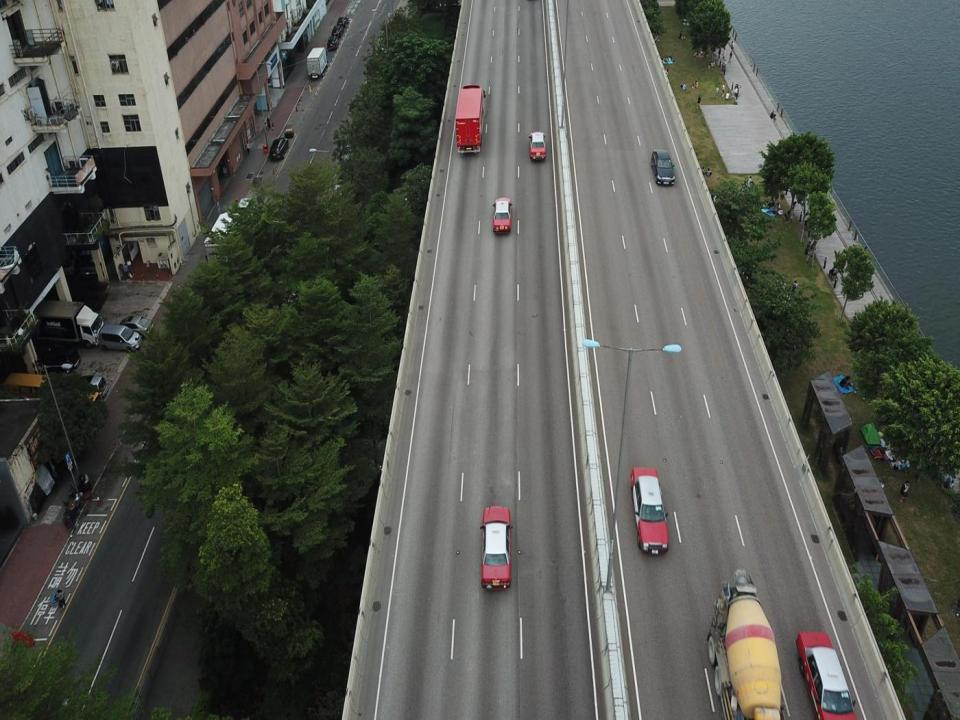car: (794, 629, 858, 718), (628, 463, 672, 555), (477, 504, 516, 592), (31, 343, 81, 372), (650, 149, 675, 186), (492, 196, 513, 236), (116, 314, 154, 336), (73, 374, 109, 397), (528, 130, 547, 162), (269, 136, 290, 160), (330, 24, 344, 38), (327, 35, 339, 51), (337, 16, 348, 28)
truck: (706, 567, 786, 719), (202, 197, 259, 284), (18, 297, 107, 350), (456, 83, 486, 155), (307, 46, 329, 78)
van: (98, 324, 141, 354)
